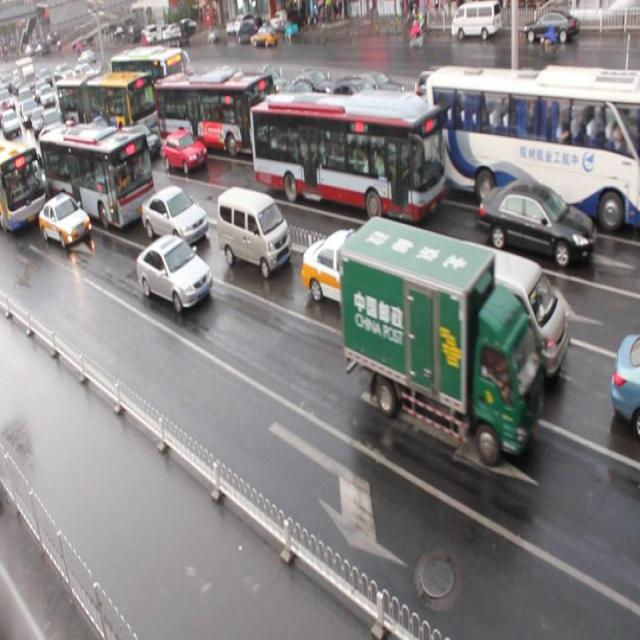bus: (338, 216, 539, 466)
car: (476, 178, 595, 271), (300, 228, 404, 321), (135, 234, 212, 312), (141, 185, 208, 250), (39, 191, 92, 246), (162, 128, 207, 174), (116, 123, 160, 164)
truck: (440, 240, 568, 386), (216, 186, 292, 276)
van: (424, 65, 640, 229), (249, 89, 443, 220), (38, 121, 156, 232), (154, 70, 274, 158), (58, 71, 158, 132), (1, 136, 46, 229)
